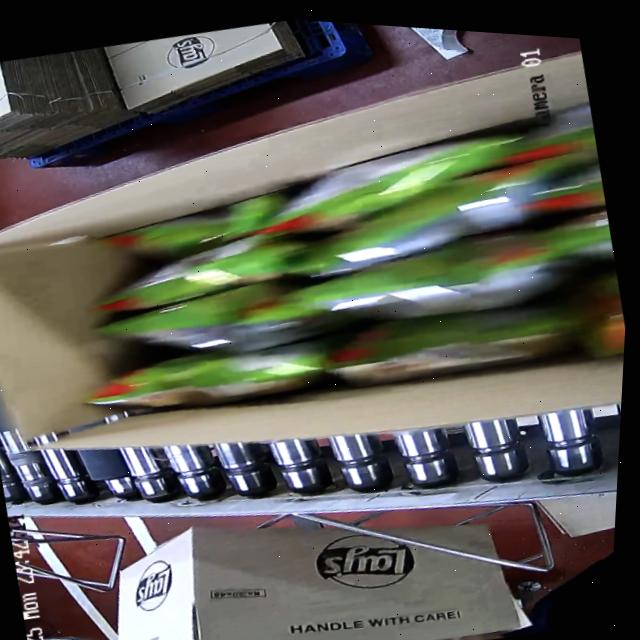YOGURT_HERB: (44, 63, 637, 469)
